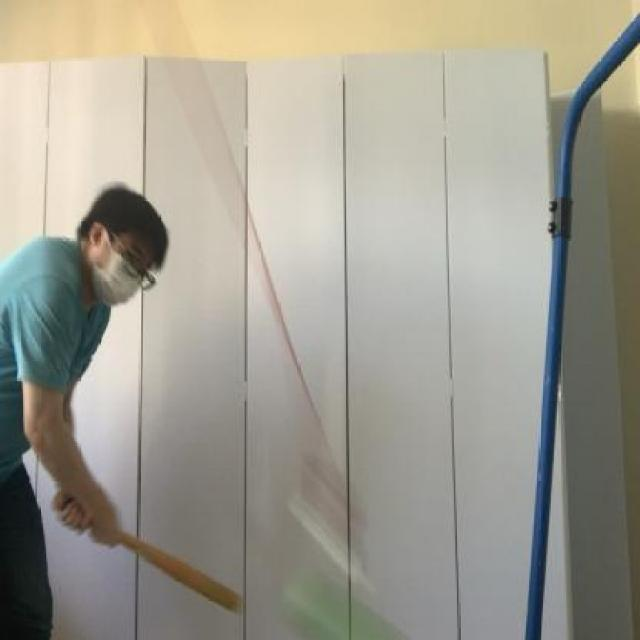baseball: (276, 563, 410, 640)
